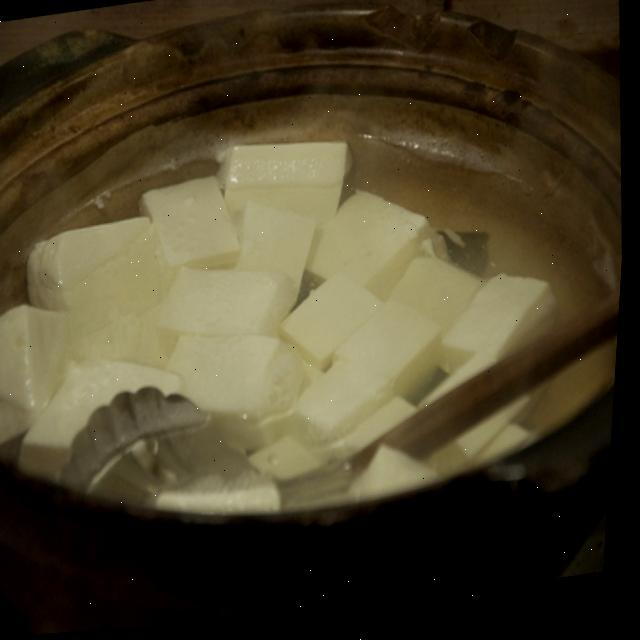豆腐料理: (0, 0, 639, 611)
